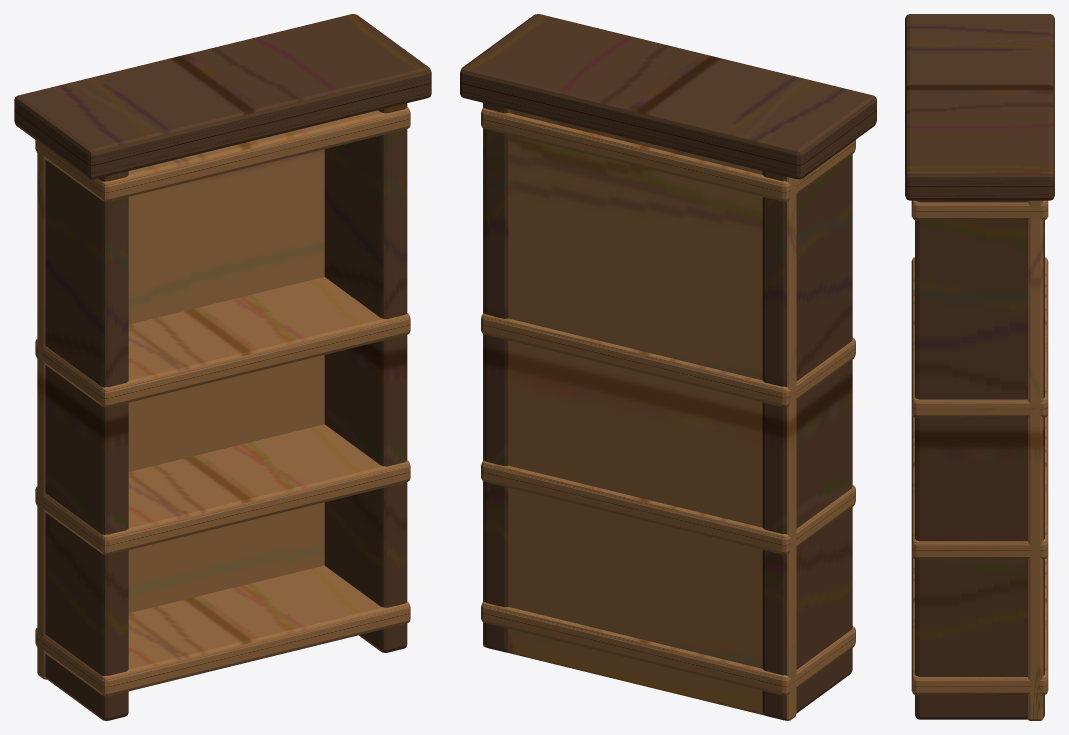
The model's file is SM_HH_V3_Bookcase.fbx.
The picture shows the model from 3 angles, left to right: view 1: azimuth 30°, elevation 25°; view 2: azimuth 150°, elevation 25°; view 3: azimuth 270°, elevation 25°; orthographic projection. The views are drawn at different scales.
Parts seen in each view (by area): view 1: HH_V3_Bookcase; view 2: HH_V3_Bookcase; view 3: HH_V3_Bookcase.
Boxes of the visible parts, <box> form: HH_V3_Bookcase: <box>14,14,431,720</box>; HH_V3_Bookcase: <box>460,14,876,720</box>; HH_V3_Bookcase: <box>905,14,1054,720</box>.
Bounding box in the file's own units: 0.46 × 1.17 × 1.89.
